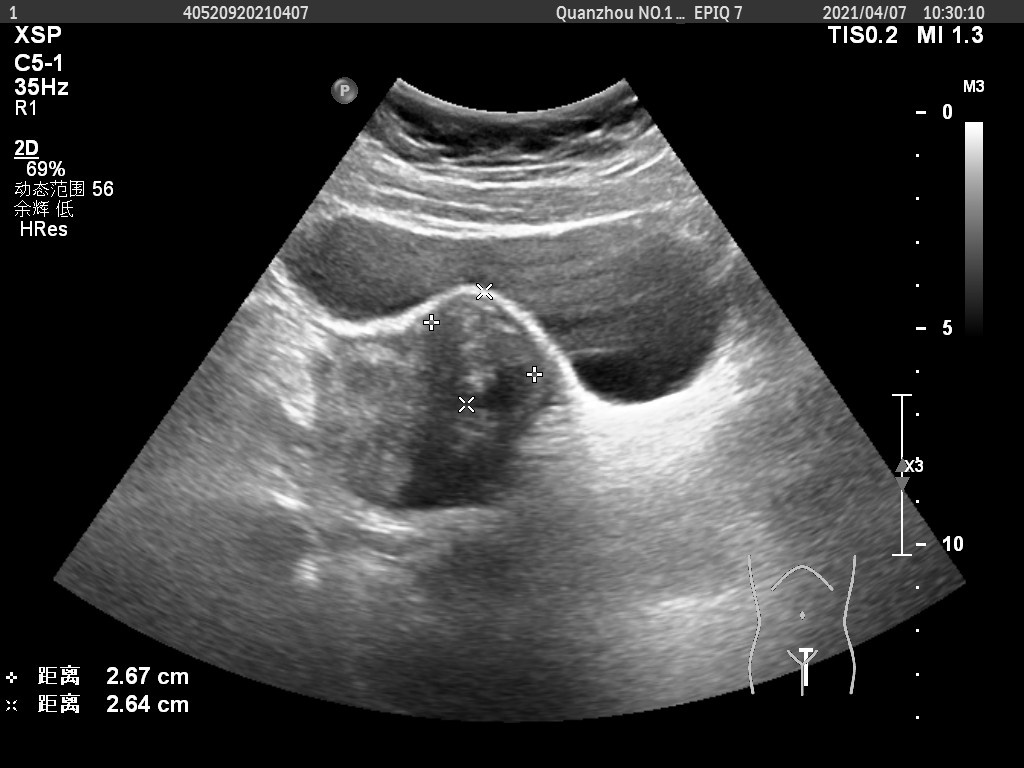肌瘤: (429, 292, 536, 405)
